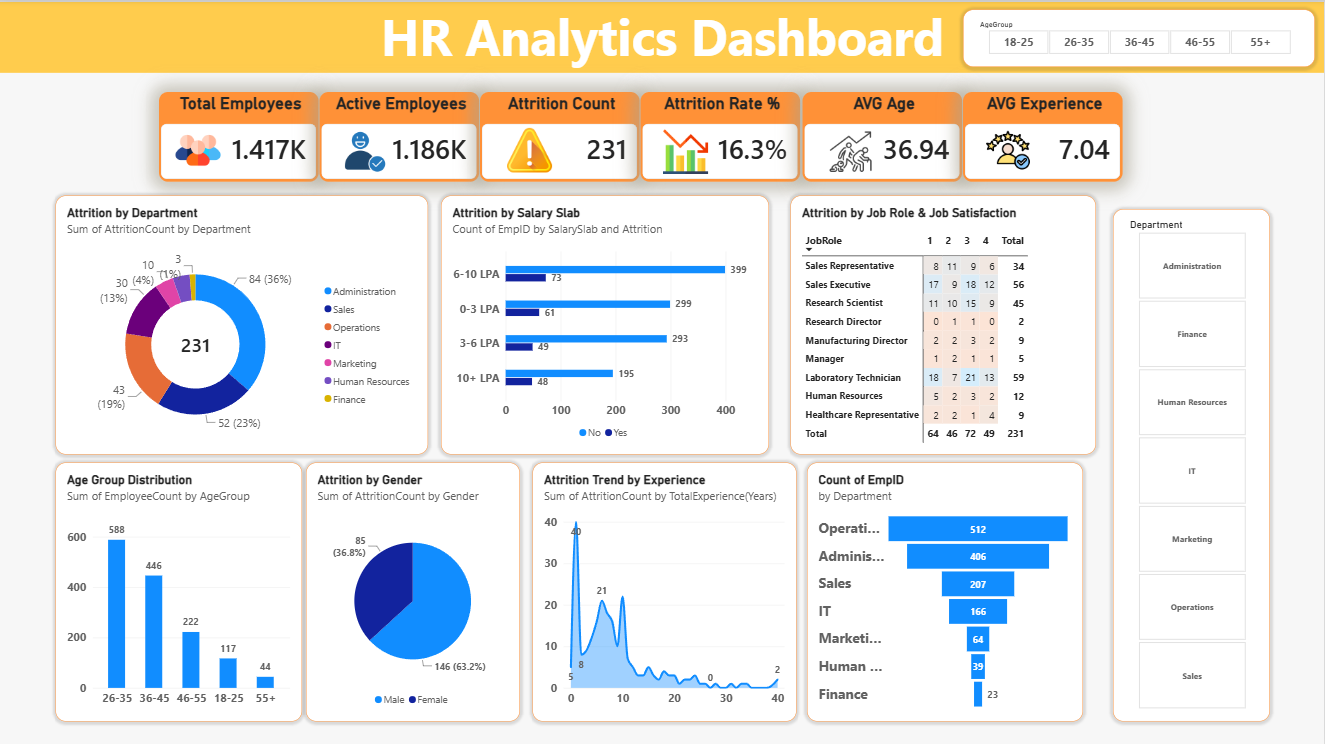

The dashboard page shown, as its layout file describes it:
{"tool":"powerbi","page":{"name":"Page 1","canvas":[1920,1080],"ordinal":0},"visuals":[{"type":"textbox","box":[0,0,1920,102.5],"z":0},{"type":"cardVisual","title":"Total Employees","fields":{"Data":["CountNonNull(HR_Analytics-4.EmpID)"]},"box":[230,130,231.6,130],"z":1000},{"type":"cardVisual","title":"Active Employees","fields":{"Data":["CountNonNull(HR_Analytics-4.EmployeeCount)"]},"box":[463,130,231.6,130],"z":2000},{"type":"cardVisual","title":"Attrition Count","fields":{"Data":["Sum(HR_Analytics-4.AttritionColumn)"]},"box":[696,130,231.6,130],"z":3000},{"type":"cardVisual","title":"Attrition Rate %","fields":{"Data":["HR_Analytics-4.Attrition Rate %"]},"box":[929.1,130,231.6,130],"z":4000},{"type":"cardVisual","title":"AVG Age","fields":{"Data":["Avg(HR_Analytics-4.Age)"]},"box":[1162.1,130,231.6,130],"z":5000},{"type":"cardVisual","title":"AVG Experience","fields":{"Data":["Avg(HR_Analytics-4.YearsatCompany)"]},"box":[1395.1,130,231.6,130],"z":6000},{"type":"image","box":[253.3,180,65,68.3],"z":7000},{"type":"image","box":[496.7,181.7,65,68.3],"z":8000},{"type":"image","box":[735,180,65,68.3],"z":9000},{"type":"image","box":[960,181.7,65,68.3],"z":10000},{"type":"image","box":[1200,182,65,68.3],"z":11000},{"type":"image","box":[1428,180,65,68.3],"z":12000},{"type":"donutChart","title":"Attrition by Department","fields":{"Category":["HR_Analytics-4.Department"],"Y":["Sum(HR_Analytics-4.AttritionColumn)"]},"box":[81.5,280.8,540,375],"z":13000},{"type":"clusteredBarChart","title":"Attrition by Salary Slab","fields":{"Category":["HR_Analytics-4.SalarySlab"],"Series":["HR_Analytics-4.Attrition"],"Y":["CountNonNull(HR_Analytics-4.EmpID)"]},"box":[639,280.8,475,375],"z":14000},{"type":"pivotTable","title":"Attrition by Job Role & Job Satisfaction","fields":{"Columns":["HR_Analytics-4.JobSatisfaction"],"Rows":["HR_Analytics-4.JobRole"],"Values":["Sum(HR_Analytics-4.AttritionCount)"]},"box":[1146.5,280.8,442.5,375],"z":15000},{"type":"columnChart","title":"Age Group Distribution ","fields":{"Category":["HR_Analytics-4.AgeGroup"],"Y":["Sum(HR_Analytics-4.EmployeeCount)"]},"box":[81.5,668.3,357.5,375],"z":16000},{"type":"pieChart","title":"Attrition by Gender","fields":{"Category":["HR_Analytics-4.Gender"],"Y":["Sum(HR_Analytics-4.AttritionCount)"]},"box":[444,668.3,310,375],"z":17000},{"type":"areaChart","title":"Attrition Trend by Experience","fields":{"Category":["HR_Analytics-4.TotalExperience(Years)"],"Y":["Sum(HR_Analytics-4.AttritionCount)"]},"box":[771.5,668.3,382.5,375],"z":18000},{"type":"funnel","fields":{"Category":["HR_Analytics-4.Department"],"Y":["CountNonNull(HR_Analytics-4.EmpID)"]},"box":[1169,668.3,400,375],"z":18001},{"type":"slicer","fields":{"Values":["HR_Analytics-4.Department"]},"box":[1614,300.8,227.5,742.5],"z":18002},{"type":"slicer","fields":{"Values":["HR_Analytics-4.AgeGroup"]},"box":[1395,10,510,83.3],"z":18003}]}

Visuals, with their boxes in screenshot pixels (x1, y1, x2, y2), scaled from the page's 1920x1080 canvas onto the 1325x744 screenshot:
textbox: x1=0 y1=0 x2=1324 y2=71
"Total Employees" cardVisual: x1=159 y1=90 x2=319 y2=179
"Active Employees" cardVisual: x1=320 y1=90 x2=479 y2=179
"Attrition Count" cardVisual: x1=480 y1=90 x2=640 y2=179
"Attrition Rate %" cardVisual: x1=641 y1=90 x2=801 y2=179
"AVG Age" cardVisual: x1=802 y1=90 x2=962 y2=179
"AVG Experience" cardVisual: x1=963 y1=90 x2=1123 y2=179
image: x1=175 y1=124 x2=220 y2=171
image: x1=343 y1=125 x2=388 y2=172
image: x1=507 y1=124 x2=552 y2=171
image: x1=662 y1=125 x2=707 y2=172
image: x1=828 y1=125 x2=873 y2=172
image: x1=985 y1=124 x2=1030 y2=171
"Attrition by Department" donutChart: x1=56 y1=193 x2=429 y2=452
"Attrition by Salary Slab" clusteredBarChart: x1=441 y1=193 x2=769 y2=452
"Attrition by Job Role & Job Satisfaction" pivotTable: x1=791 y1=193 x2=1097 y2=452
"Age Group Distribution " columnChart: x1=56 y1=460 x2=303 y2=719
"Attrition by Gender" pieChart: x1=306 y1=460 x2=520 y2=719
"Attrition Trend by Experience" areaChart: x1=532 y1=460 x2=796 y2=719
funnel - HR_Analytics-4.Department x CountNonNull(HR_Analytics-4.EmpID): x1=807 y1=460 x2=1083 y2=719
slicer - HR_Analytics-4.Department: x1=1114 y1=207 x2=1271 y2=719
slicer - HR_Analytics-4.AgeGroup: x1=963 y1=7 x2=1315 y2=64
